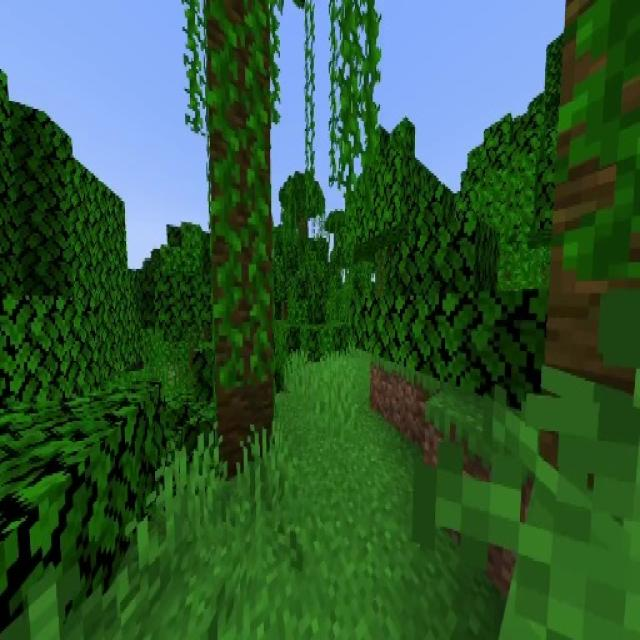jungle_log: (204, 0, 274, 470)
